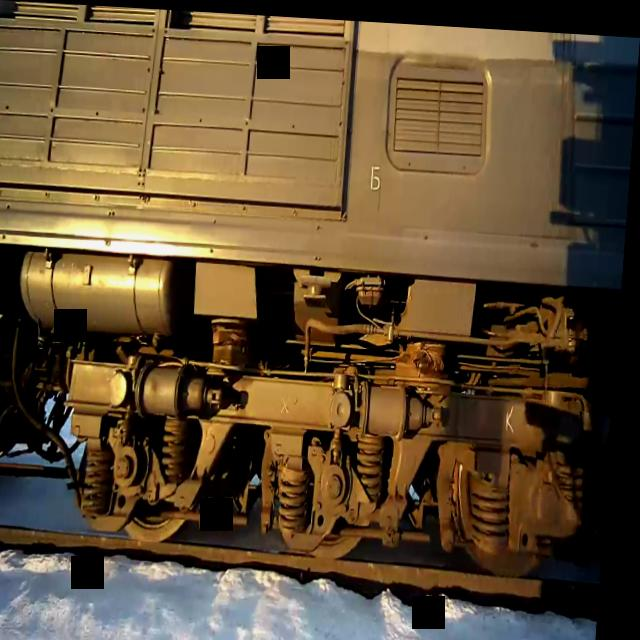locomotive: (0, 0, 640, 617)
